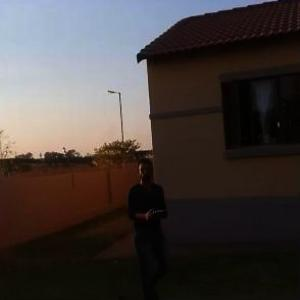follow: (121, 152, 185, 299)
